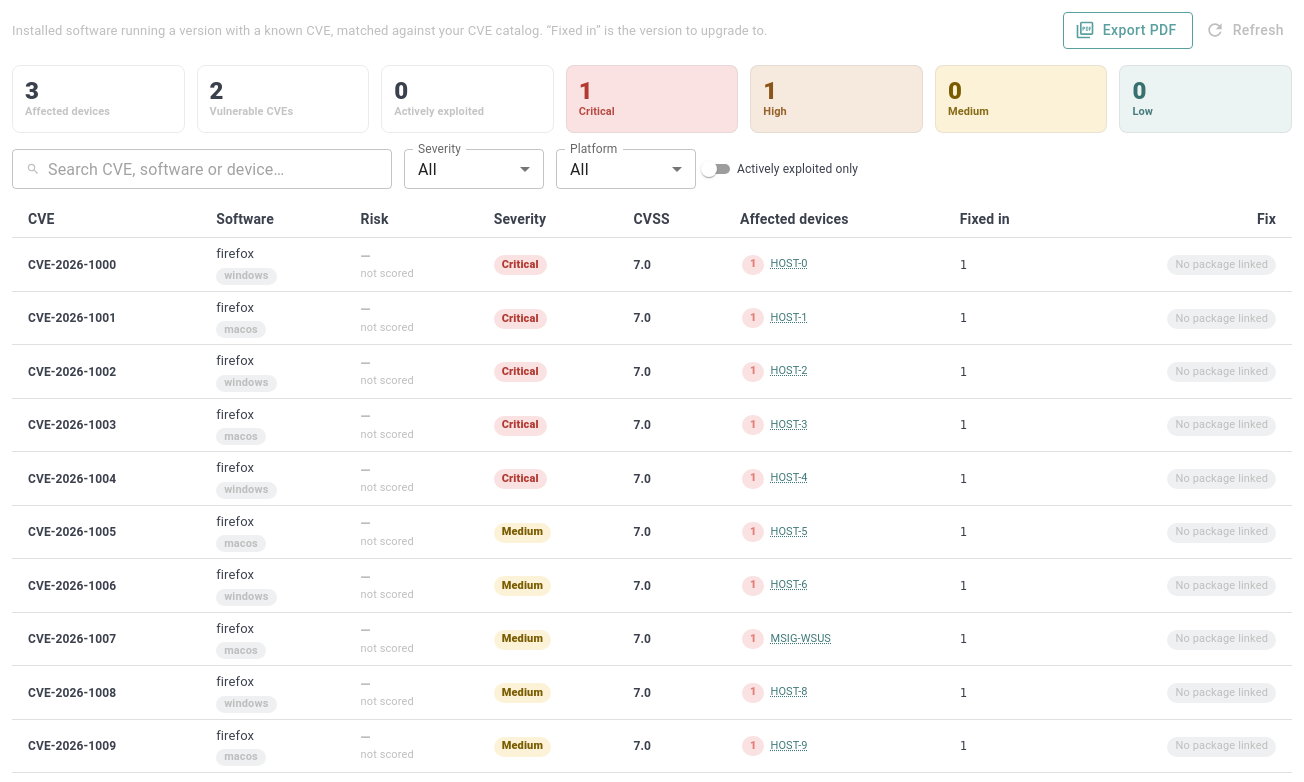
Scenario: ⭐ Vulnerabilities se puede recorrer › «Actively exploited only» deja sólo los KEV, aunque estén en otra página
This screenshot has width=1304, height=782.
Expected: the text "CVE-2026-1000" is shown, x1=28 y1=258 x2=116 y2=272
Step 1. Click the switch labelled "Actively exploited only" → (778, 169), box x1=697 y1=157 x2=858 y2=181
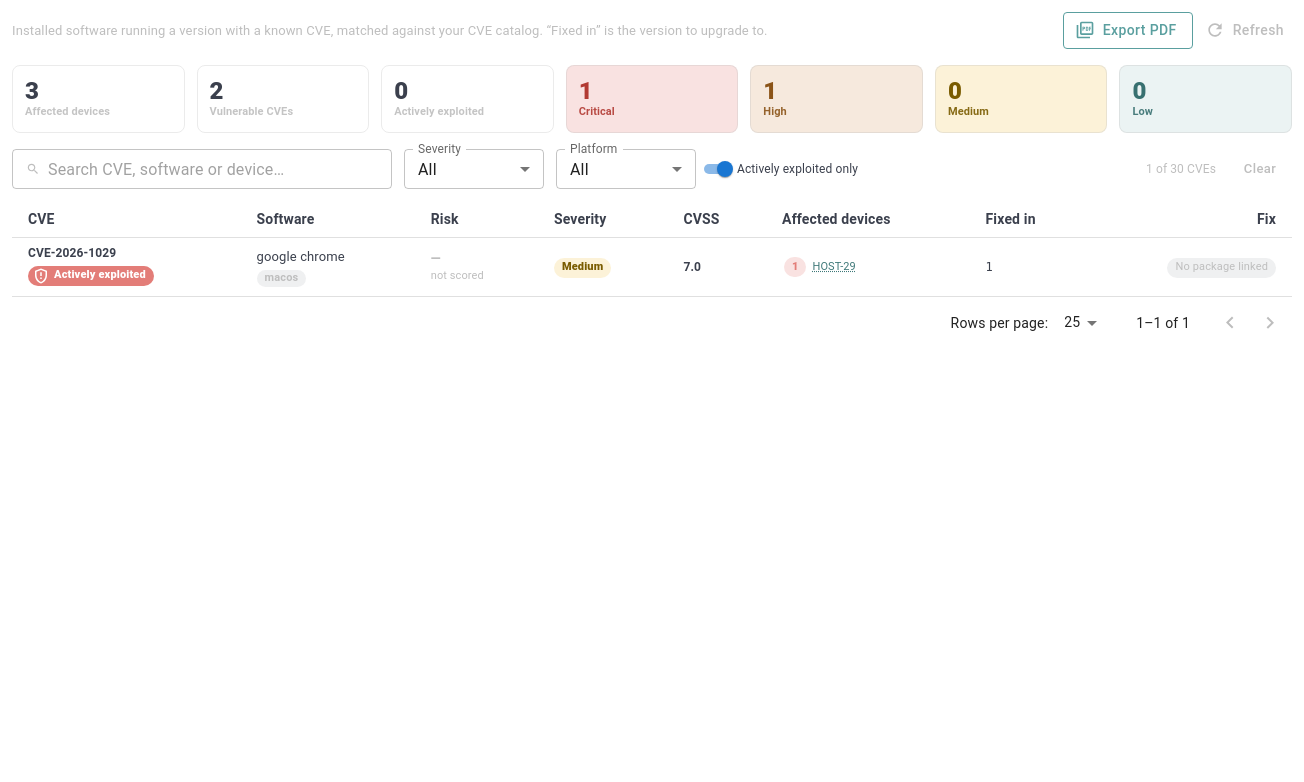
Result: the text "CVE-2026-1029" is shown at x1=28 y1=246 x2=116 y2=260
Result: the text "CVE-2026-1000" is gone
